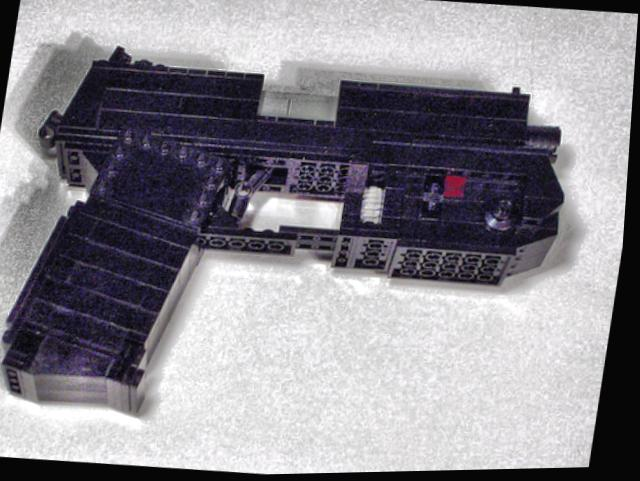pistol: (0, 33, 587, 443)
